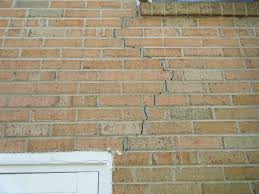stairstep_crack: (112, 5, 176, 154)
